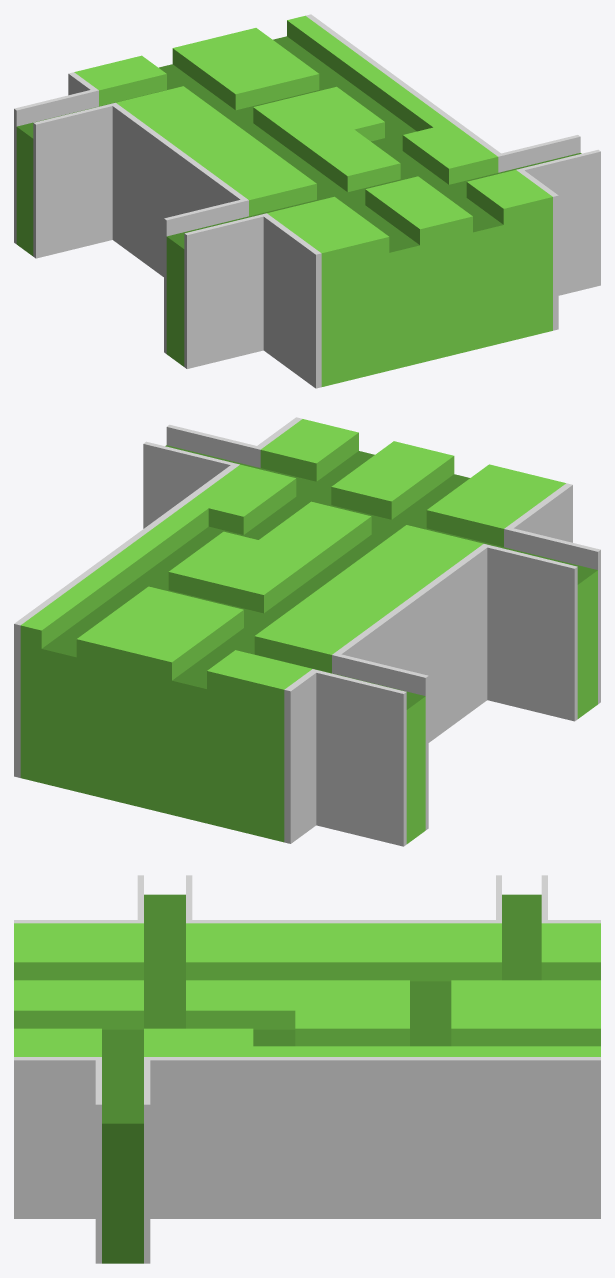
Rendered from kenarlı 1.fbx.
3 renders of one model, top to bottom at view 1: azimuth 30°, elevation 25°; view 2: azimuth 150°, elevation 25°; view 3: azimuth 270°, elevation 25°, orthographic. The views are drawn at different scales.
Parts seen in each view (by area): view 1: Cube; view 2: Cube; view 3: Cube.
Boxes of the visible parts, <box> form: Cube: <box>14,14,600,388</box>; Cube: <box>14,417,600,846</box>; Cube: <box>14,875,600,1263</box>.
Bounding box in the file's own units: 5166 × 1668 × 5590.
